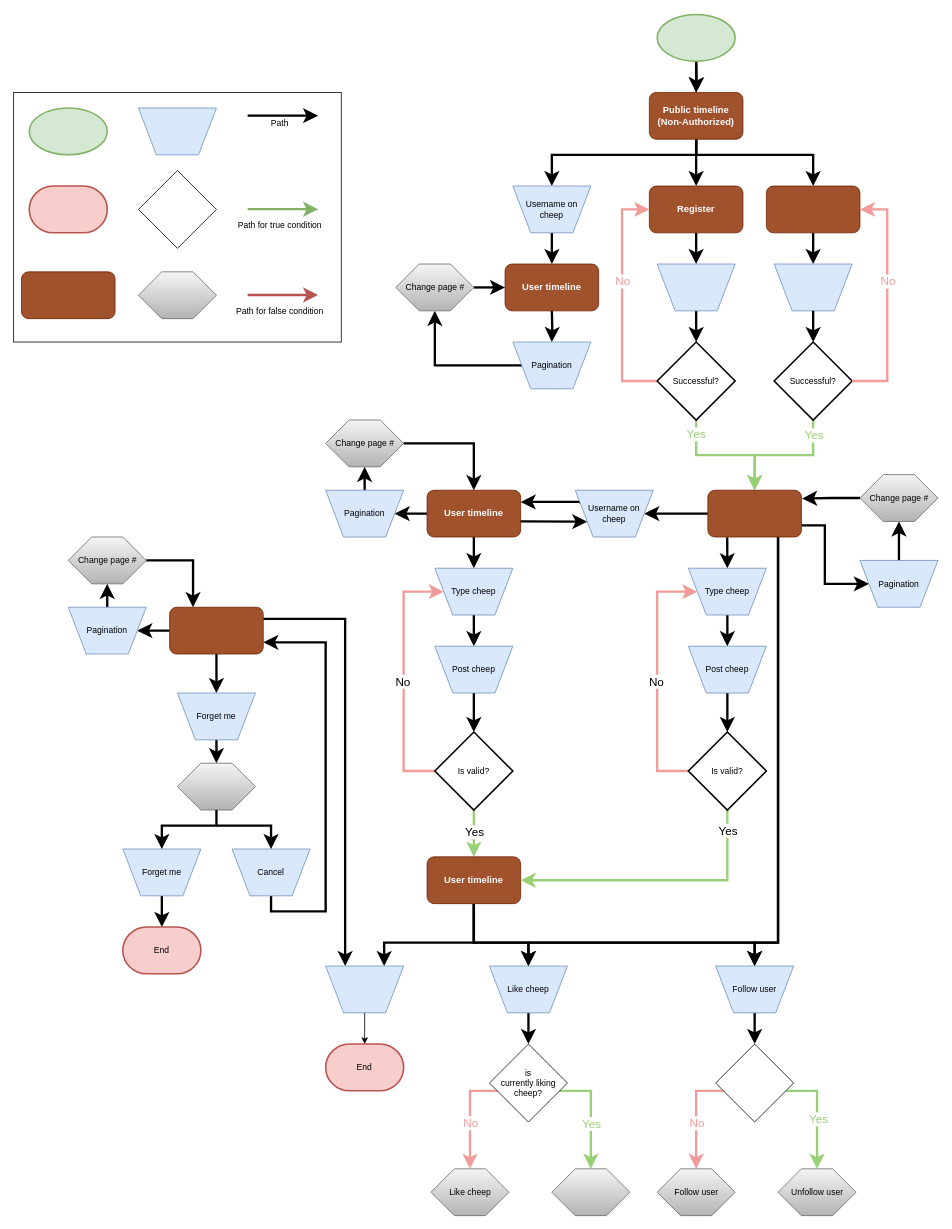
The diagram is 952 pixels wide and 1229 high, and some of its shapes have lost their labels. Here are the shapes that lost their labels. From the top down, the centre of each, then its label:
At point (696, 37): "Start".
At point (68, 131): "Entry Point".
At point (177, 131): "User Input".
At point (68, 209): "Exit point".
At point (177, 209): "Condition".
At point (813, 209): "Login".
At point (68, 295): "Razor page".
At point (177, 295): "System change".
At point (695, 287): "Sign up".
At point (812, 287): "Sign in".
At point (754, 513): "Public Timeline (Authorized)".
At point (216, 630): "About me".
At point (216, 786): "Verification pop-up".
At point (364, 989): "Logout".
At point (754, 1082): "is currently following user?".
At point (590, 1192): "Unlike cheep".
